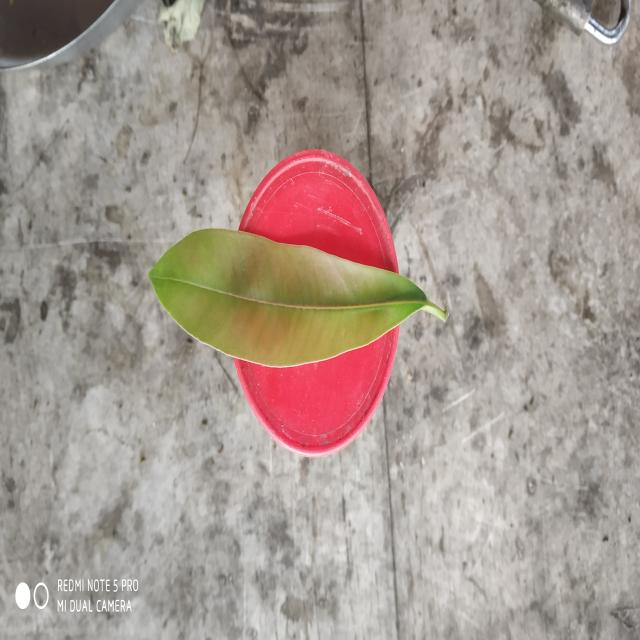nerale: (149, 229, 449, 367)
